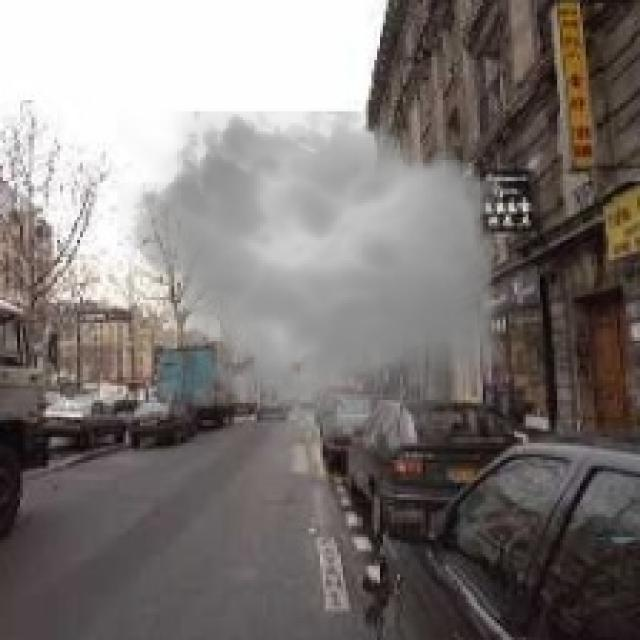Smoke: (117, 94, 523, 452)
